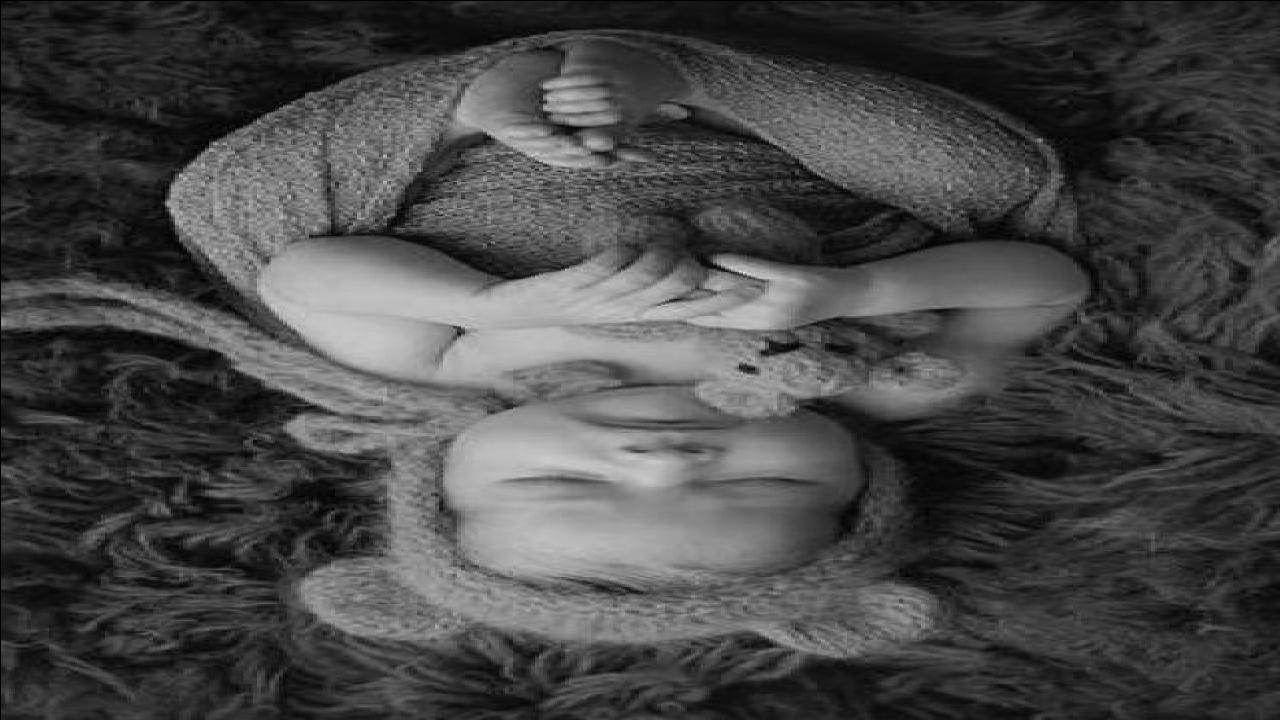hand: (478, 246, 760, 329), (664, 256, 834, 328)
